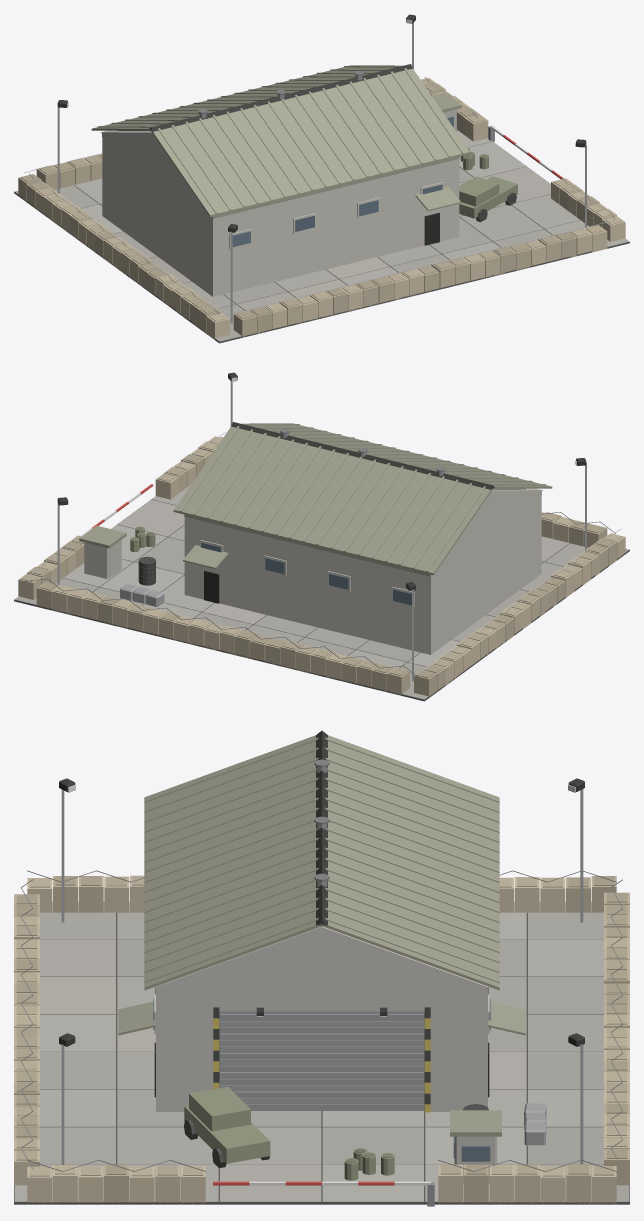
File: b_garage.glb
The picture shows the model from 3 angles, top to bottom: view 1: azimuth 30°, elevation 25°; view 2: azimuth 150°, elevation 25°; view 3: azimuth 270°, elevation 25°; orthographic projection. The views are drawn at different scales.
Parts seen in each view (by area): view 1: hull; view 2: hull; view 3: hull, door.
Part boxes in pixels (left/top/right/bottom): hull: left=14, top=14, right=629, bottom=343; hull: left=14, top=372, right=629, bottom=701; hull: left=14, top=730, right=629, bottom=1206; door: left=219, top=1011, right=424, bottom=1110.
Bounding box in the file's own units: 30.2 × 9.53 × 26.
